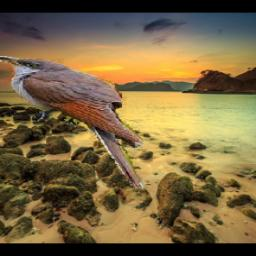Cuckoo: (0, 57, 143, 189)
